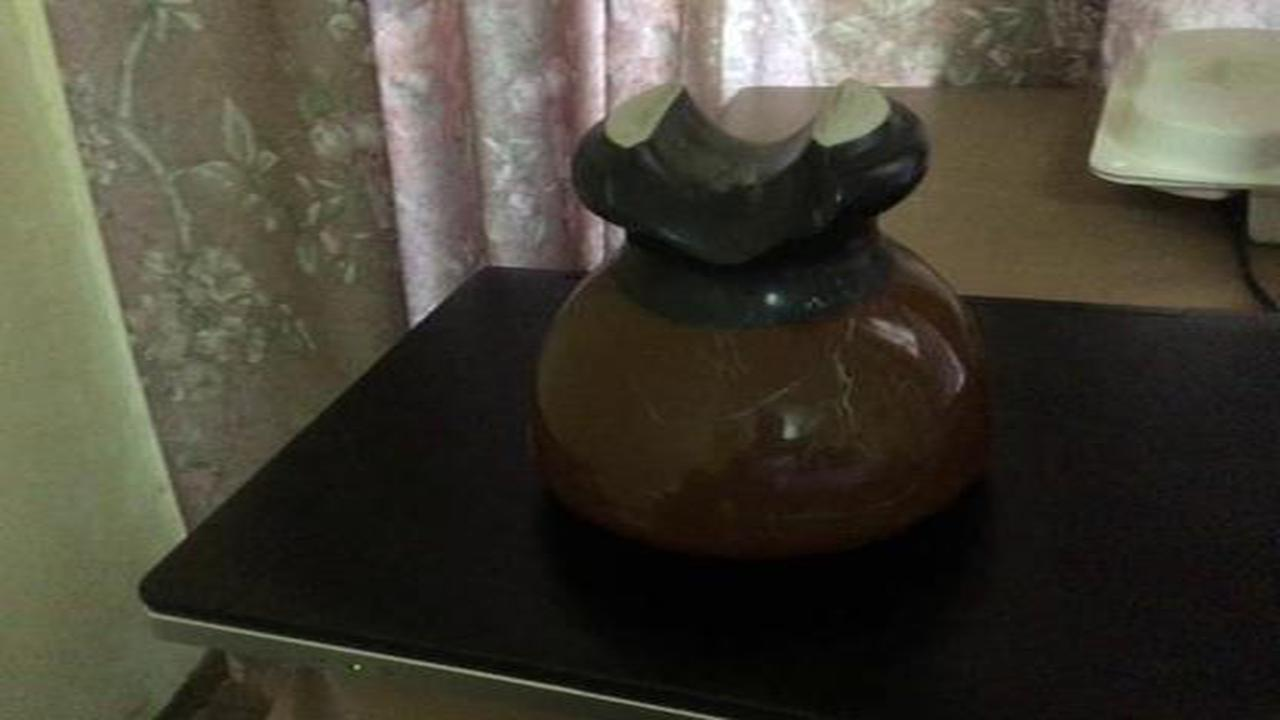insulator_pin: (521, 69, 1022, 575)
